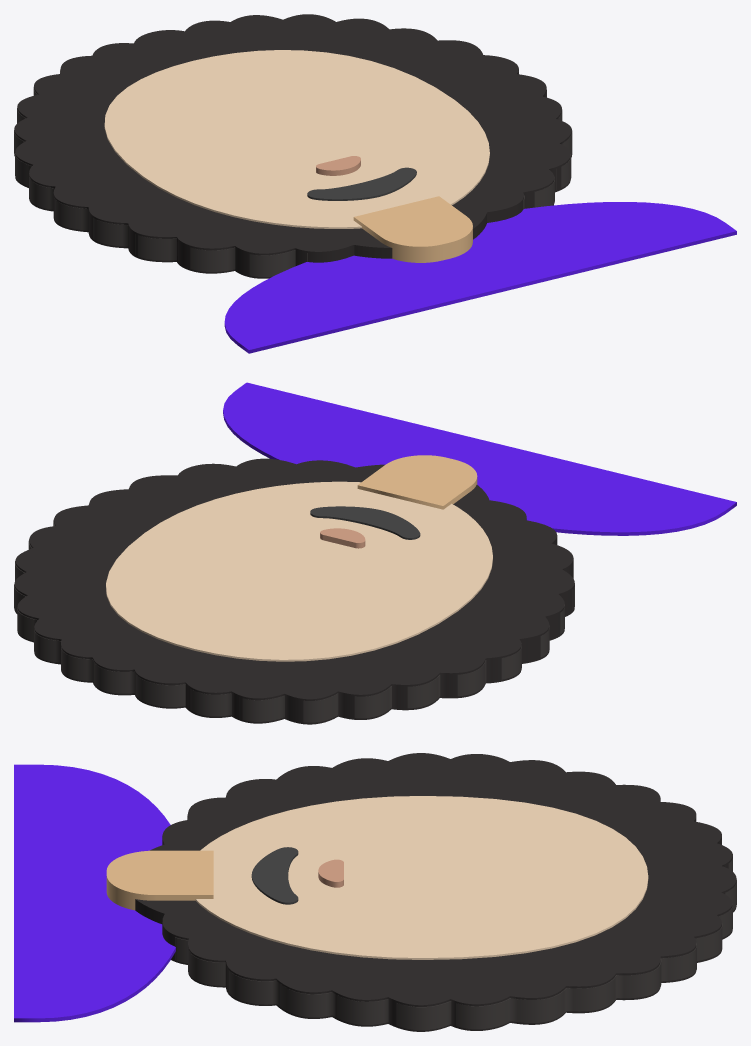
File: emoji_u1f469_1f3fb_200d_1f9b1.glb
The picture shows the model from 3 angles, top to bottom: view 1: azimuth 30°, elevation 25°; view 2: azimuth 150°, elevation 25°; view 3: azimuth 270°, elevation 25°; orthographic projection. The views are drawn at different scales.
Parts seen in each view (by area): view 1: emoji_u1f469_1f3fb_200d_1f9b1; view 2: emoji_u1f469_1f3fb_200d_1f9b1; view 3: emoji_u1f469_1f3fb_200d_1f9b1.
Boxes of the visible parts, x1,y1,x2,y2 form: emoji_u1f469_1f3fb_200d_1f9b1: [14, 14, 736, 353]; emoji_u1f469_1f3fb_200d_1f9b1: [14, 382, 736, 724]; emoji_u1f469_1f3fb_200d_1f9b1: [14, 753, 736, 1031].
Size of the model in its own units: 0.0285 by 0.0022 by 0.0342.
